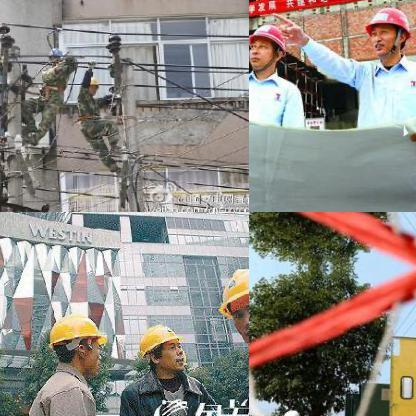Helmet: (44, 308, 106, 378), (213, 261, 248, 351), (136, 320, 188, 375), (365, 6, 413, 58), (249, 23, 290, 73), (46, 44, 66, 66), (82, 71, 100, 93), (279, 407, 303, 415)
